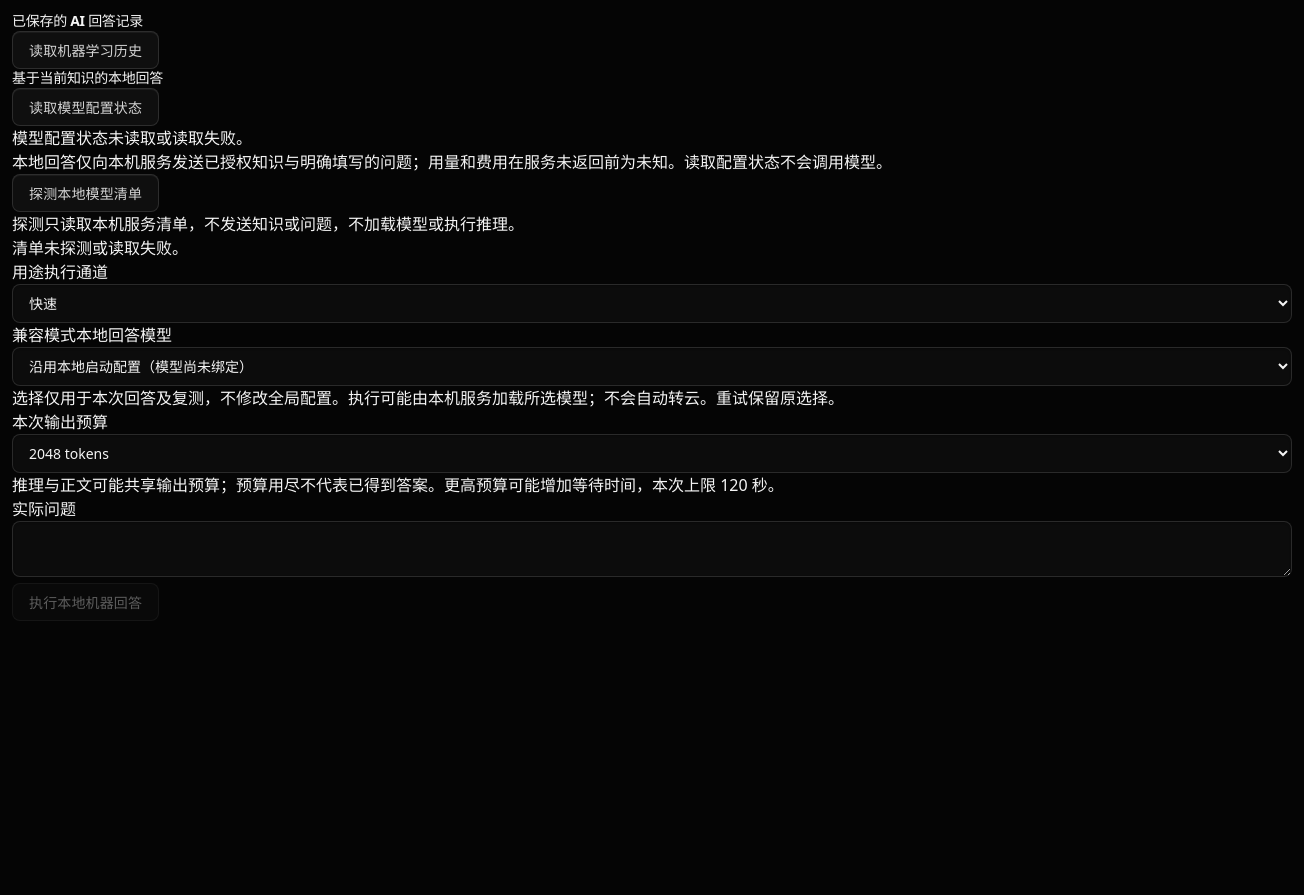
Test: machine identity and history regressions › restores a saved answer from paged Core history without inference
Click the button "读取机器学习历史" at (86, 50), box [12,31,159,69]
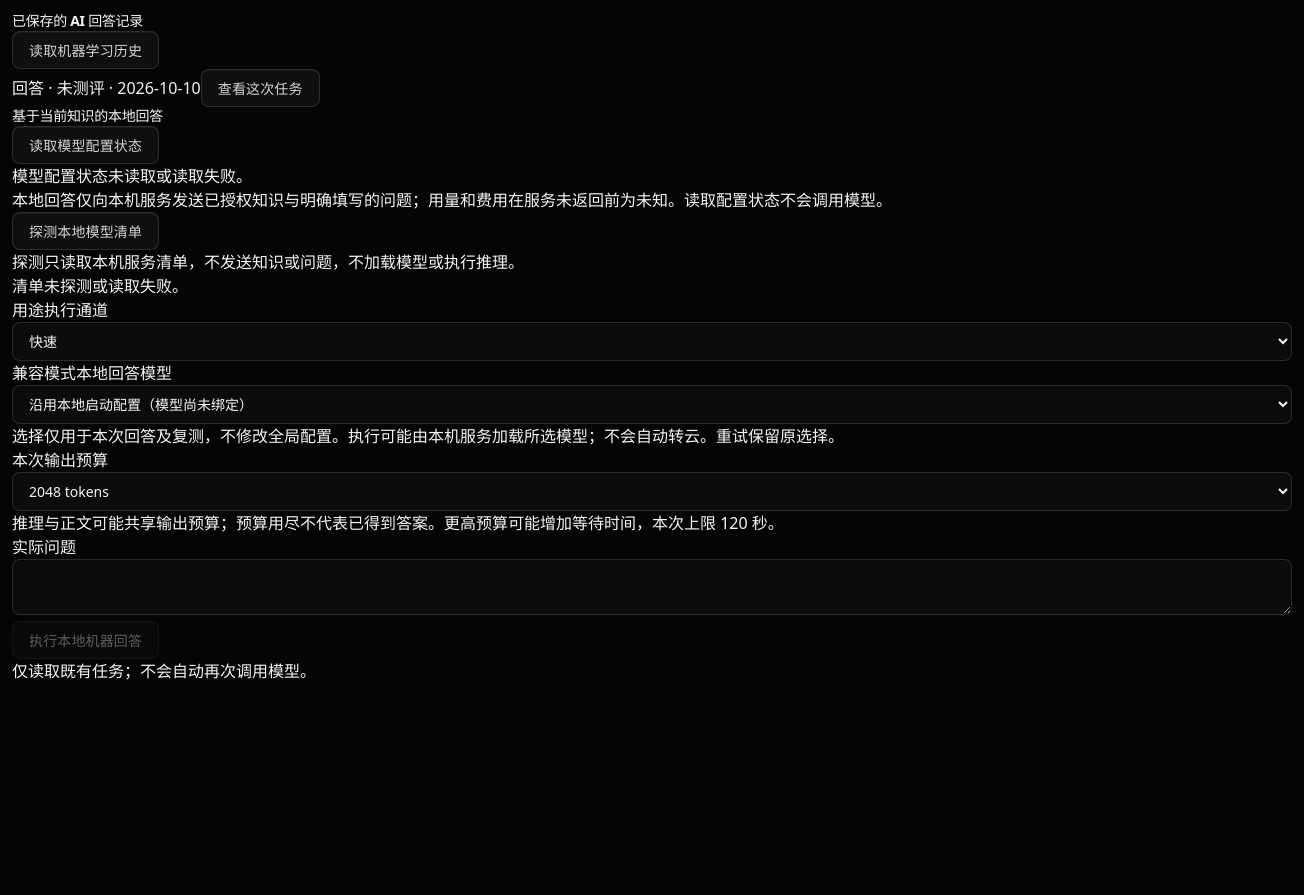
Click the button "查看这次任务" at (260, 88), box [201,69,320,107]
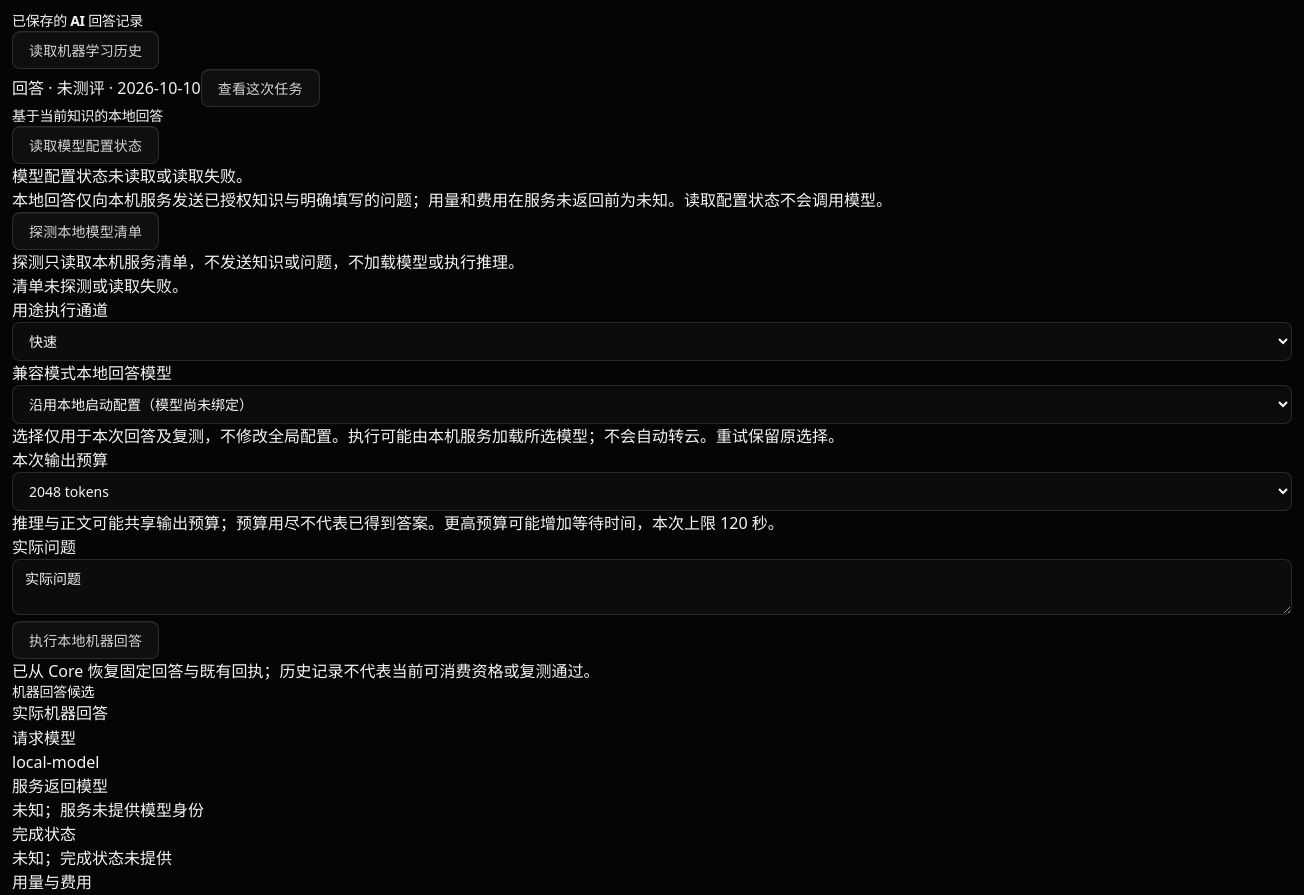
Result: the text named "真实机器回答" reads "实际机器回答" at [12,704,108,723]
